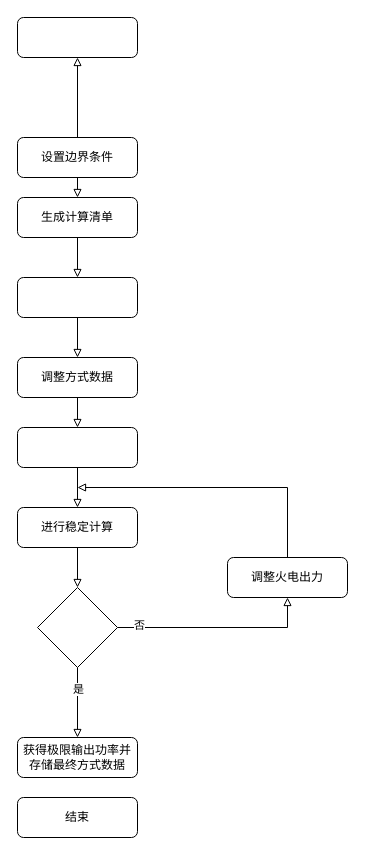
The diagram is 365 pixels wide and 855 high, and some of its shapes have lost their labels. The shapes that lost their labels are listed below. From the top down, each one's centre as x and y in pixels, then its label:
At pixel 77 37: "开始".
At pixel 77 297: "调整直流功率".
At pixel 77 447: "生成故障卡".
At pixel 77 627: "判断是否稳定".
